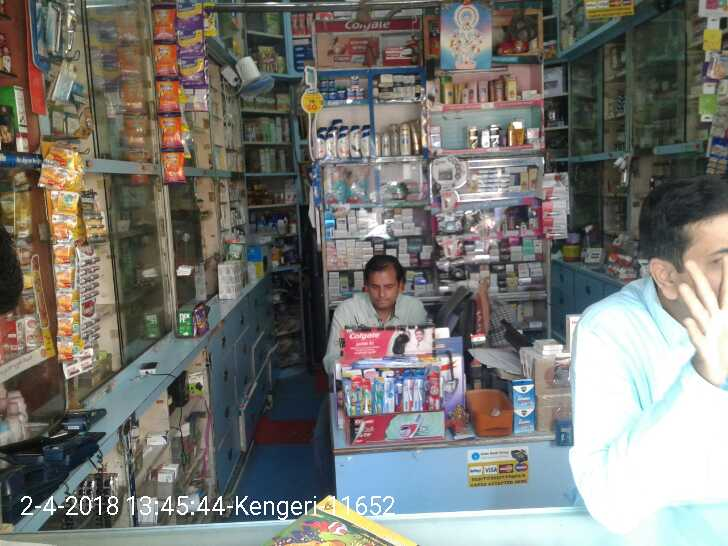vicks: (321, 76, 347, 101), (347, 76, 367, 102)
